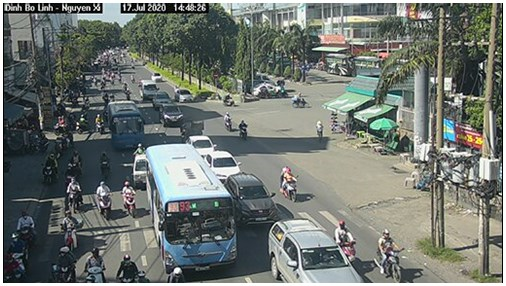xe_buyt: (146, 142, 239, 275), (105, 101, 147, 148)
xe_dap: (313, 118, 326, 144)
xe_hoi: (268, 219, 364, 283), (225, 174, 277, 225), (204, 150, 243, 182), (158, 104, 187, 129), (186, 134, 216, 158), (172, 87, 195, 104), (153, 91, 172, 108), (151, 71, 162, 80)
xe_khach: (138, 77, 160, 103)
xe_may: (371, 229, 407, 282), (48, 241, 78, 284), (5, 231, 30, 278), (56, 208, 79, 254), (114, 251, 148, 282), (335, 219, 357, 264), (83, 245, 109, 283), (93, 178, 115, 220), (278, 165, 302, 201), (14, 209, 36, 248), (65, 175, 85, 210), (40, 152, 59, 187), (120, 178, 137, 217), (65, 146, 83, 180), (59, 121, 76, 151), (289, 91, 311, 113), (97, 150, 111, 178), (92, 111, 107, 134), (222, 109, 234, 134), (76, 115, 92, 133), (236, 119, 247, 141), (83, 93, 92, 111)
xe_tai: (129, 152, 147, 187)
